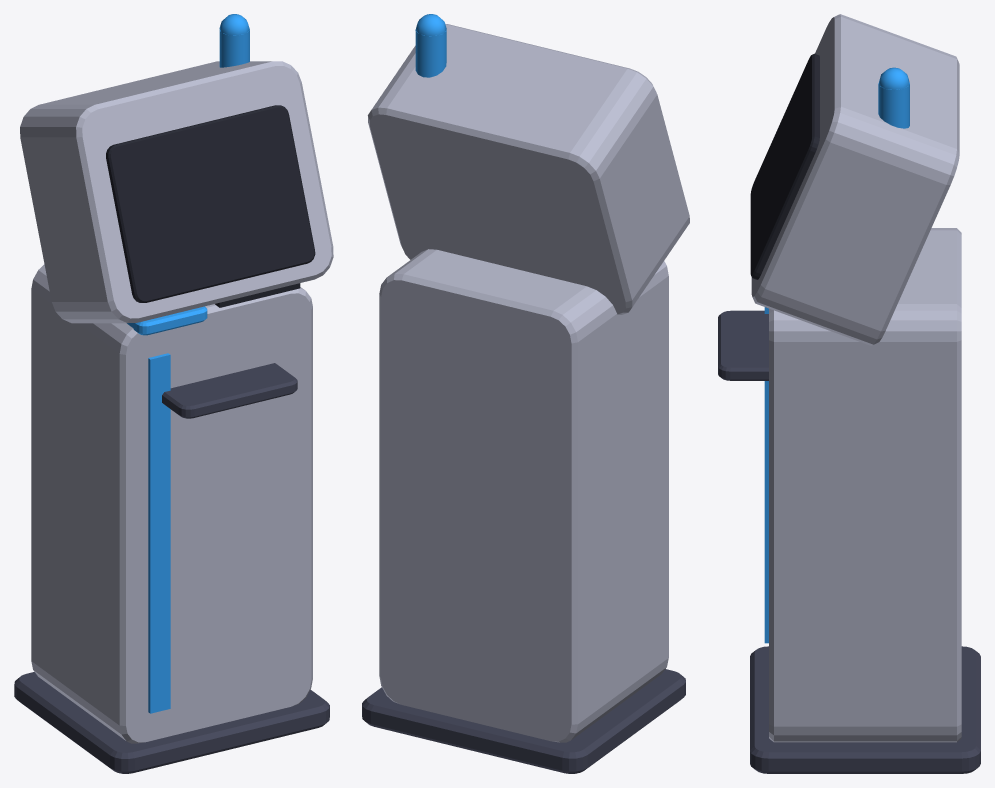
Rendered from checkin_kiosk.glb.
The picture shows the model from 3 angles, left to right: view 1: azimuth 30°, elevation 25°; view 2: azimuth 150°, elevation 25°; view 3: azimuth 270°, elevation 25°; orthographic projection. The views are drawn at different scales.
Parts seen in each view (by area): view 1: kiosk_body, kiosk_head, kiosk_screen, kiosk_plinth, kiosk_body_accent, kiosk_bagtag_tray, kiosk_scanner, kiosk_beacon; view 2: kiosk_body, kiosk_head, kiosk_plinth, kiosk_beacon; view 3: kiosk_body, kiosk_head, kiosk_plinth, kiosk_screen, kiosk_bagtag_tray, kiosk_body_accent, kiosk_beacon, kiosk_beacon_cap.
Part boxes in pixels (<box>): kiosk_body: <box>31,264,312,743</box>; kiosk_head: <box>20,61,333,323</box>; kiosk_screen: <box>106,105,315,302</box>; kiosk_plinth: <box>14,672,329,773</box>; kiosk_body_accent: <box>148,353,170,713</box>; kiosk_bagtag_tray: <box>162,363,297,418</box>; kiosk_scanner: <box>127,306,207,335</box>; kiosk_beacon: <box>219,29,249,67</box>; kiosk_body: <box>379,249,668,742</box>; kiosk_head: <box>367,24,689,314</box>; kiosk_plinth: <box>362,669,685,773</box>; kiosk_beacon: <box>415,30,446,77</box>; kiosk_body: <box>769,228,961,742</box>; kiosk_head: <box>751,14,959,345</box>; kiosk_plinth: <box>750,646,980,773</box>; kiosk_screen: <box>750,53,819,279</box>; kiosk_bagtag_tray: <box>718,310,768,380</box>; kiosk_body_accent: <box>764,307,768,643</box>; kiosk_beacon: <box>878,82,909,128</box>; kiosk_beacon_cap: <box>879,67,909,90</box>.
Size of the model in its own units: 0.56 by 1.58 by 0.546.
